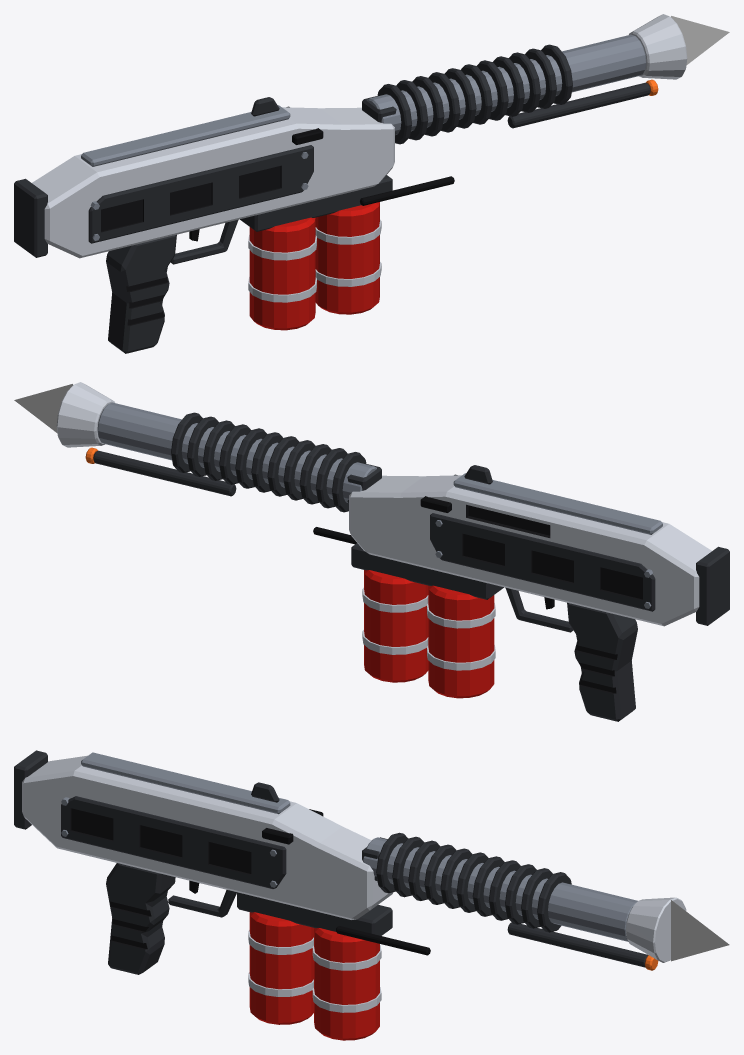
Rendered from flamethrower42.obj.
3 renders of one model, top to bottom at view 1: azimuth 30°, elevation 25°; view 2: azimuth 150°, elevation 25°; view 3: azimuth 330°, elevation 25°, orthographic.
Parts seen in each view (by area): view 1: body, barrel, tank, muzzle_0; view 2: body, barrel, tank, muzzle_0; view 3: body, barrel, tank, muzzle_0.
Boxes of the visible parts, x1=… form: body: x1=14, y1=96, x2=454, y2=353; barrel: x1=367, y1=14, x2=687, y2=144; tank: x1=248, y1=202, x2=381, y2=330; muzzle_0: x1=671, y1=16, x2=729, y2=65; body: x1=313, y1=464, x2=729, y2=721; barrel: x1=56, y1=382, x2=376, y2=512; tank: x1=362, y1=570, x2=495, y2=698; muzzle_0: x1=14, y1=384, x2=72, y2=433; body: x1=14, y1=750, x2=430, y2=974; barrel: x1=363, y1=832, x2=686, y2=970; tank: x1=248, y1=912, x2=381, y2=1040; muzzle_0: x1=671, y1=900, x2=729, y2=961.
Size of the model in its own units: 0.6142 by 0.186 by 0.0524.
